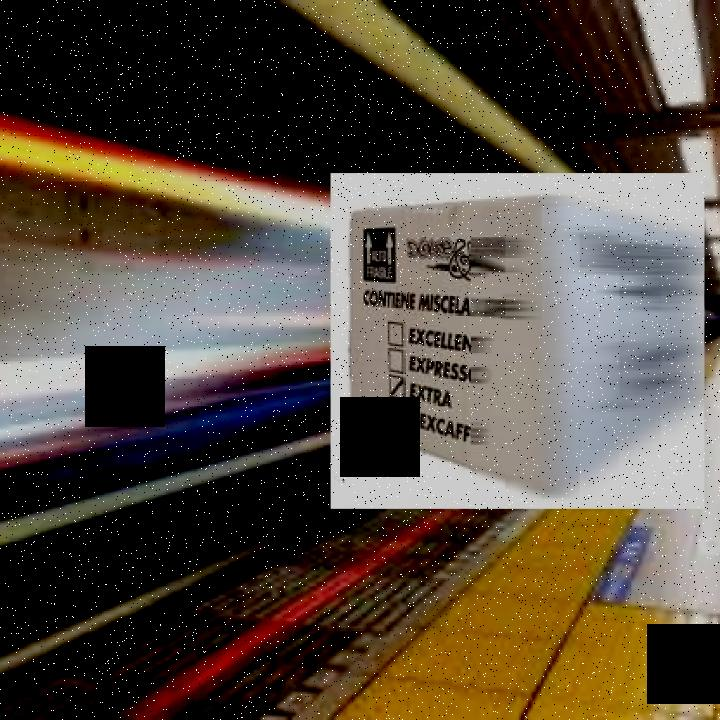box: (325, 169, 712, 515)
